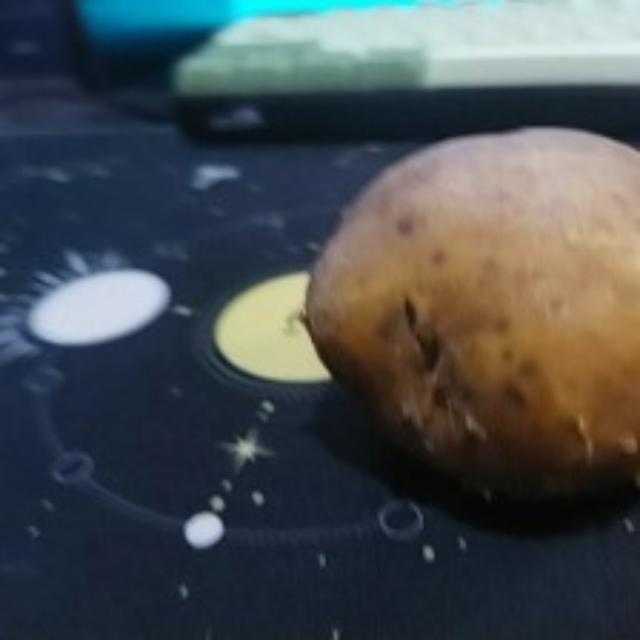Damaged potato: (292, 126, 640, 514)
